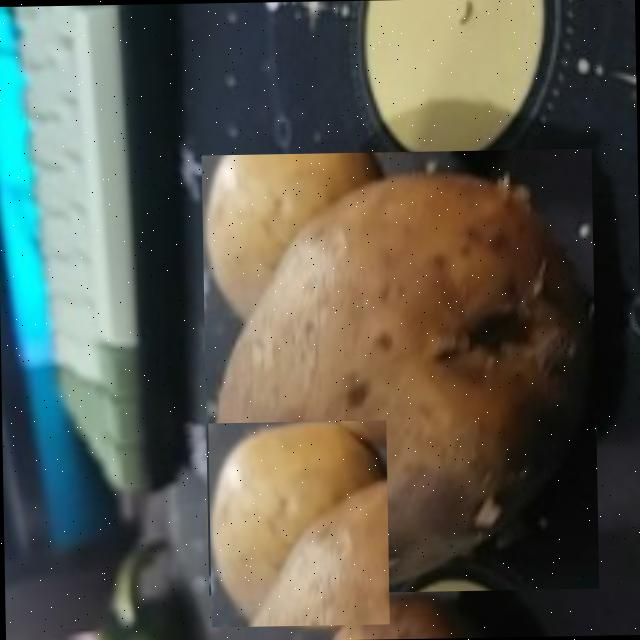Damaged potato: (201, 147, 599, 594)
Potato: (208, 419, 390, 626)
